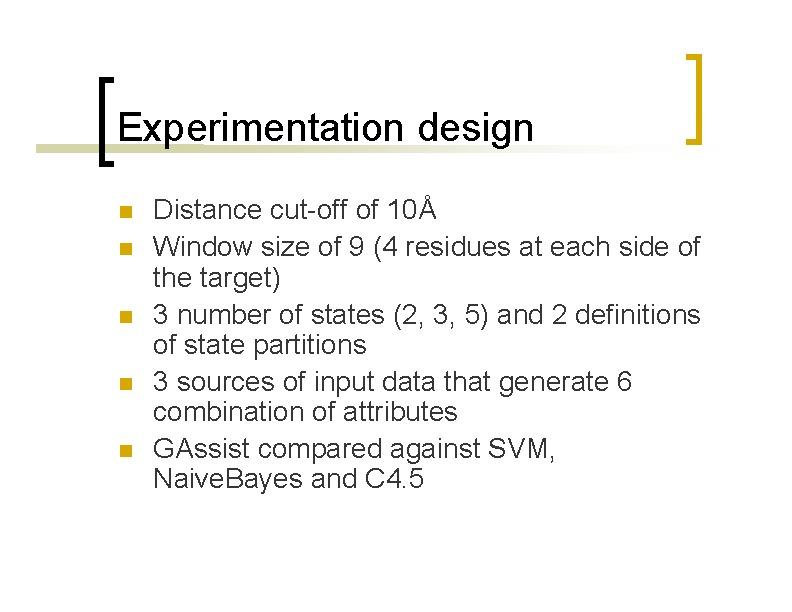paragraph: (113, 191, 732, 519)
title: (111, 92, 553, 167)
